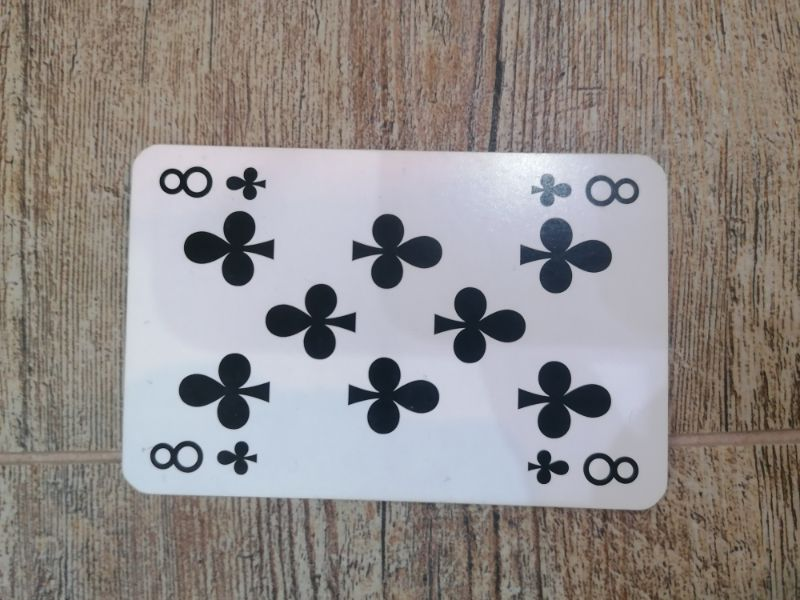8c: (526, 167, 645, 214), (524, 446, 642, 492), (157, 161, 271, 206), (146, 438, 262, 477)
